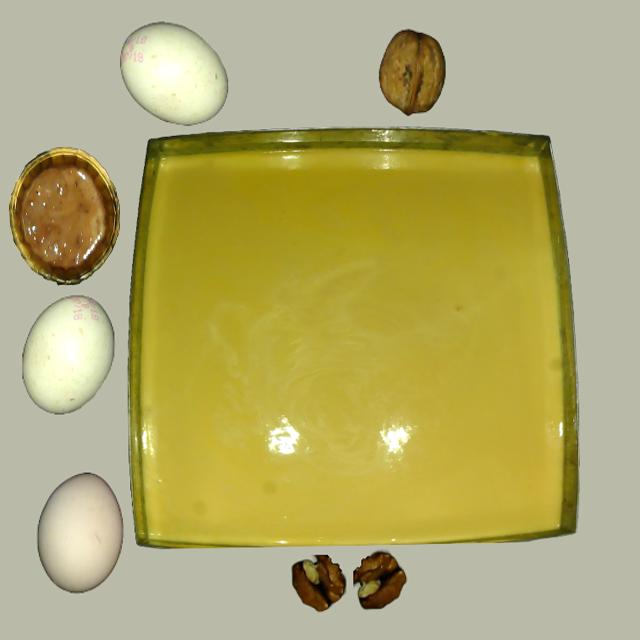Walnut: (378, 29, 445, 116)
